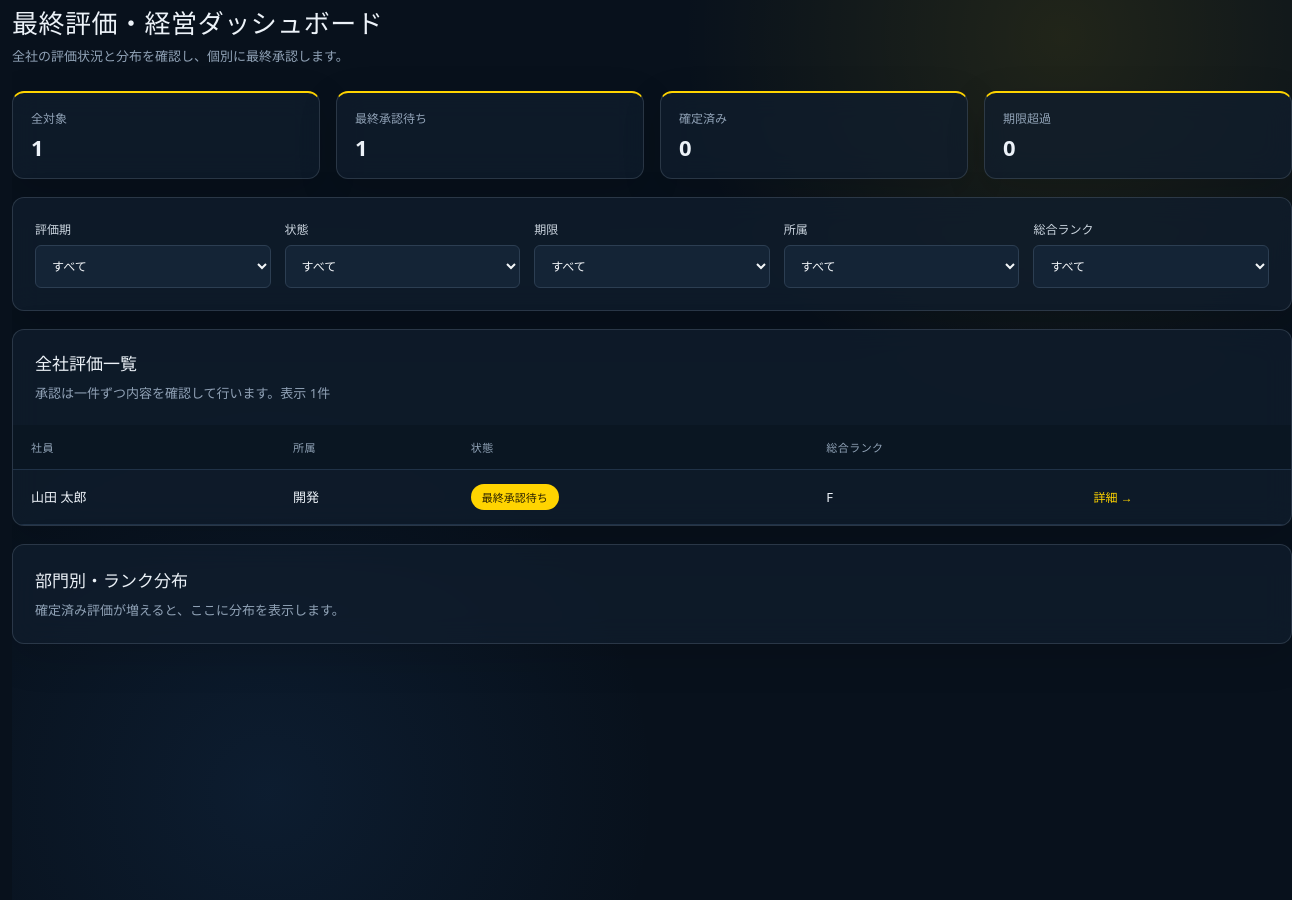
Test: 評価承認画面 › 経営者一覧は6rankで絞り込み、日本語状態と総合ランクだけを表示する
The image size is (1292, 900).
expect the text "山田 太郎" is shown: met, box [13,469,275,524]
expect the text "最終承認待ち" in the row of "山田 太郎" is shown: met, box [482,490,548,505]
Select "D" in the dropdown labelled "総合ランク" at (1151, 267), box [1033,245,1269,288]
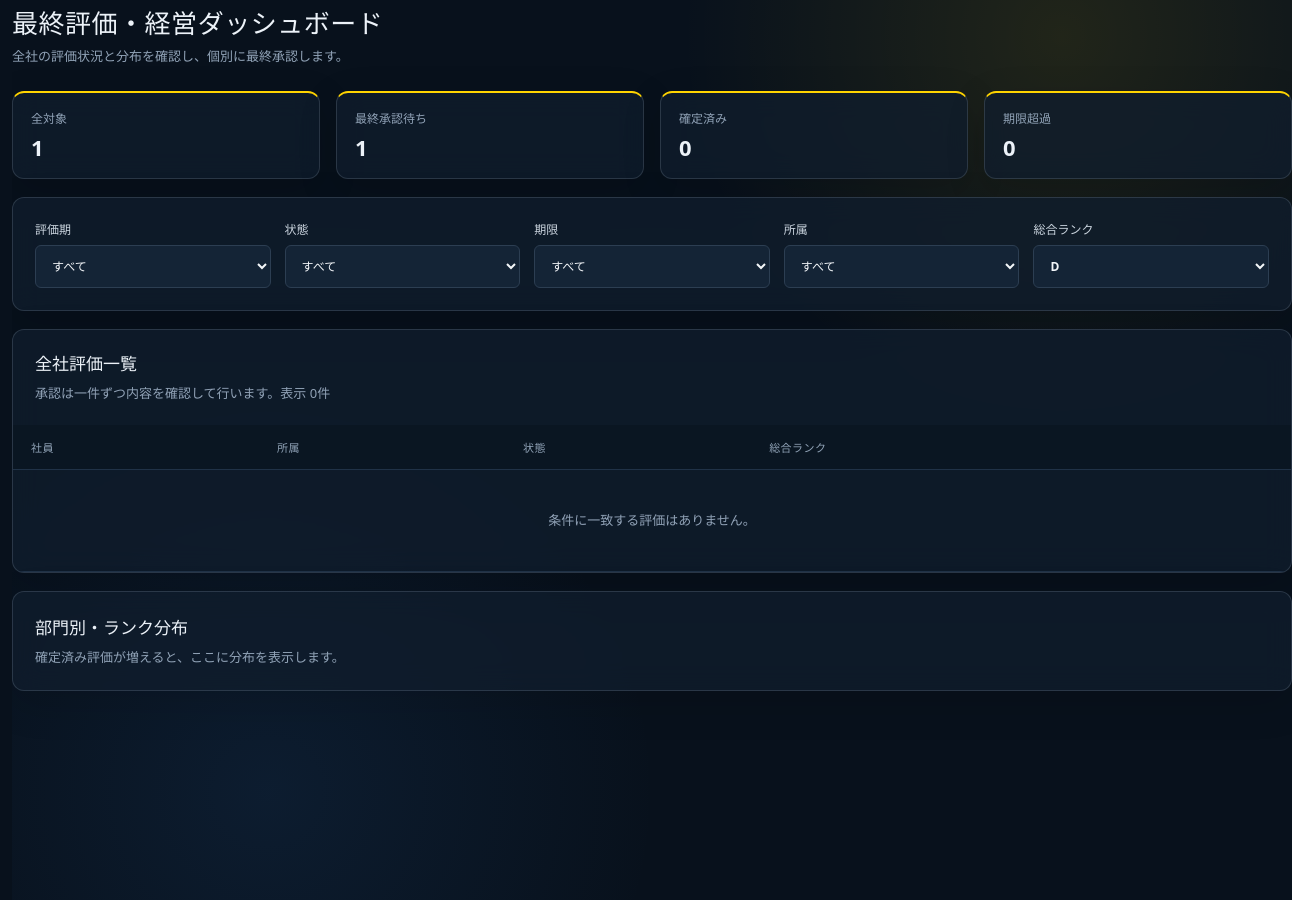
expect the text "山田 太郎" is gone: met
Select "F" in the dropdown labelled "総合ランク" at (1151, 267), box [1033,245,1269,288]
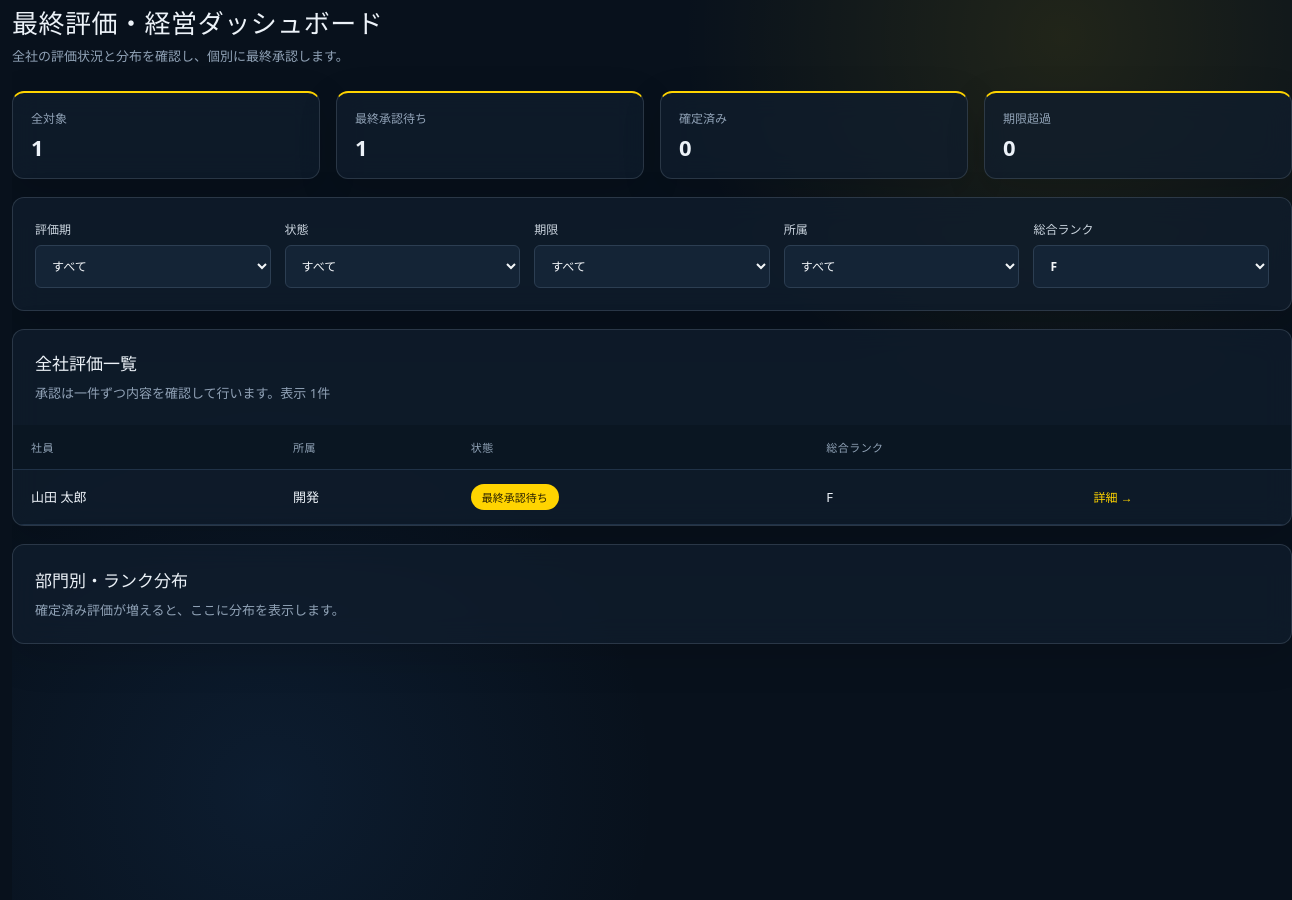
expect the text "山田 太郎" shows "F": met, box [826,488,833,506]
